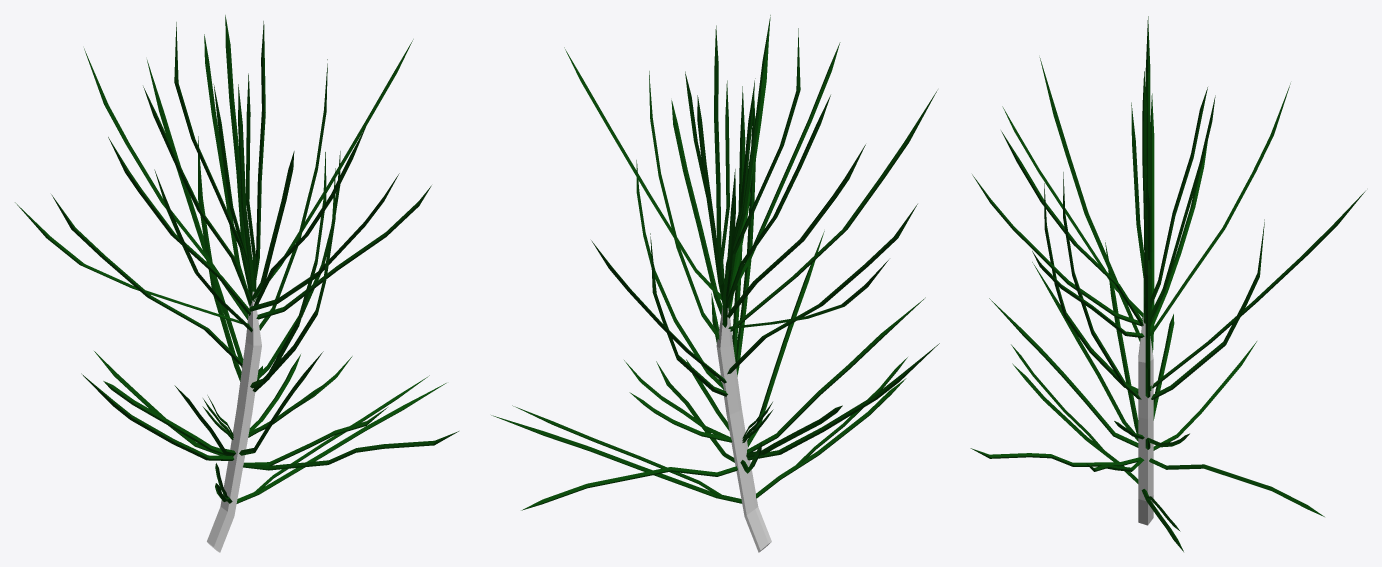
Rendered from Tree.fbx.
The picture shows the model from 3 angles, left to right: view 1: azimuth 30°, elevation 25°; view 2: azimuth 150°, elevation 25°; view 3: azimuth 270°, elevation 25°; orthographic projection. The views are drawn at different scales.
Parts seen in each view (by area): view 1: 실린더.002, 실린더; view 2: 실린더.002, 실린더; view 3: 실린더.002, 실린더.
Boxes of the visible parts, bbox=[...] form: 실린더.002: bbox=[15, 15, 458, 503]; 실린더: bbox=[207, 291, 261, 552]; 실린더.002: bbox=[491, 15, 939, 510]; 실린더: bbox=[716, 306, 771, 552]; 실린더.002: bbox=[970, 16, 1365, 551]; 실린더: bbox=[1138, 313, 1153, 525].
Size of the model in its own units: 367 by 451 by 330.
